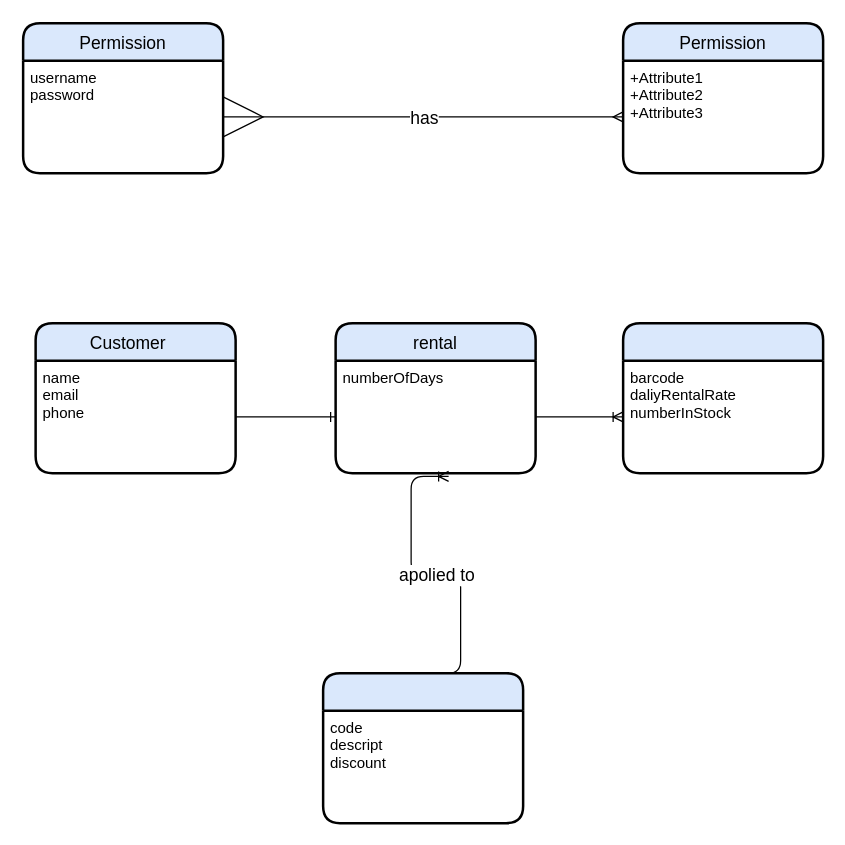
Image size: 845x845. Some labels were removed from this diagram. Here are the shapes that lost their labels. From the top down, the box of each, then its label:
(621, 321, 824, 474): Movie
(321, 671, 524, 824): Coupon
